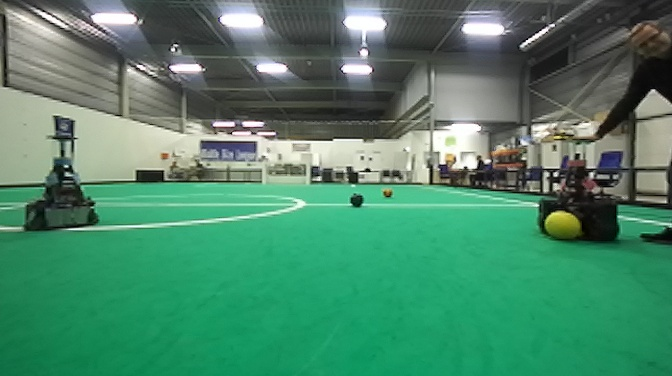ball: (542, 209, 585, 244), (349, 190, 366, 211), (380, 185, 394, 201)
goal: (261, 161, 312, 188)
goalpost: (261, 161, 268, 187), (304, 161, 311, 187)
human_part: (570, 18, 672, 249)
robot: (533, 135, 623, 247), (20, 131, 103, 235)
